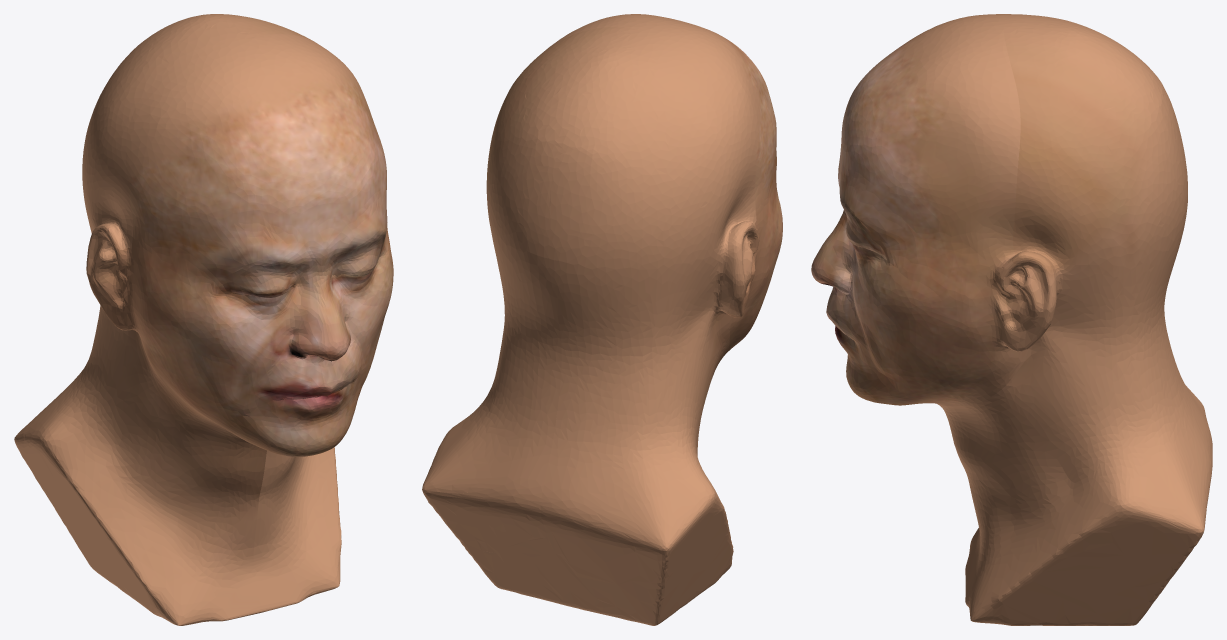
File: small.gltf
3 views of the same model, side by side, from view 1: azimuth 30°, elevation 25°; view 2: azimuth 150°, elevation 25°; view 3: azimuth 270°, elevation 25° (orthographic). The views are drawn at different scales.
Parts seen in each view (by area): view 1: Group53757; view 2: Group53757; view 3: Group53757.
Part boxes in pixels (<box>): Group53757: <box>14,14,393,625</box>; Group53757: <box>422,14,782,625</box>; Group53757: <box>811,14,1212,625</box>.
Bounding box in the file's own units: 61.12 × 118 × 76.38.
1 material, 1 textured.
